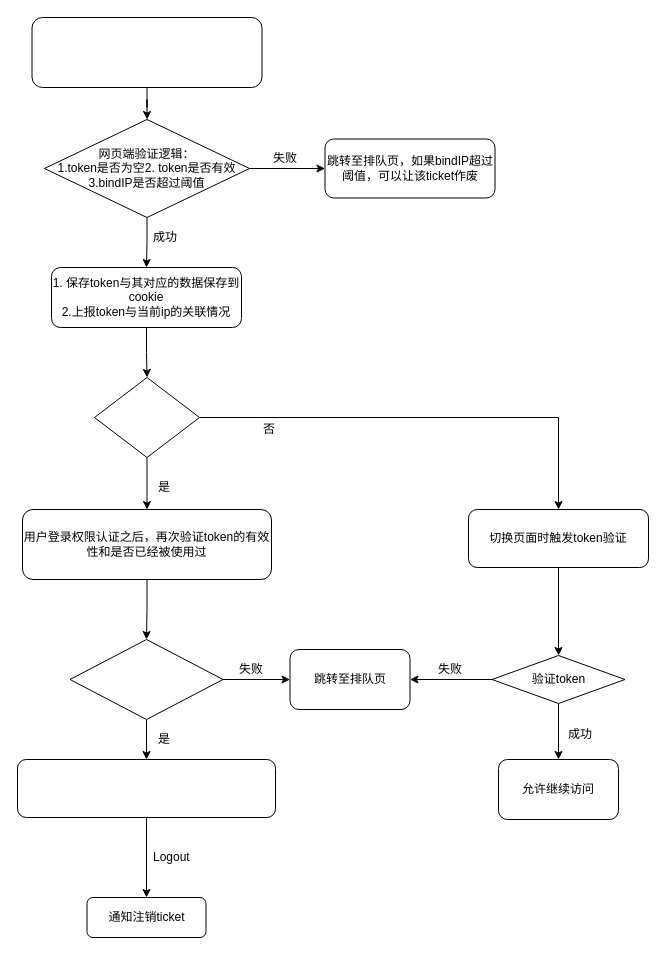
Image size: 666x955. Some labels were removed from this diagram. The shapes that lost their labels are listed below. From the top down, each one's centre as x and y in pixels, then its label:
At point 146,52: "带token访问 www.a.com?ticket=1k2n3k09das".
At point 147,417: "是否需要登录".
At point 146,679: "token验证是否成功".
At point 146,788: "1.为登录用户设置有效期 2.调用将该token标记为已使用，防止共享 3. 执行原本登录成功的逻辑".
